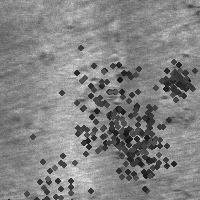rolled-in_scale: (45, 31, 161, 147), (59, 72, 173, 186), (83, 80, 185, 182), (103, 115, 187, 199), (0, 133, 100, 200), (75, 52, 127, 119), (111, 139, 155, 189), (155, 56, 199, 100)
